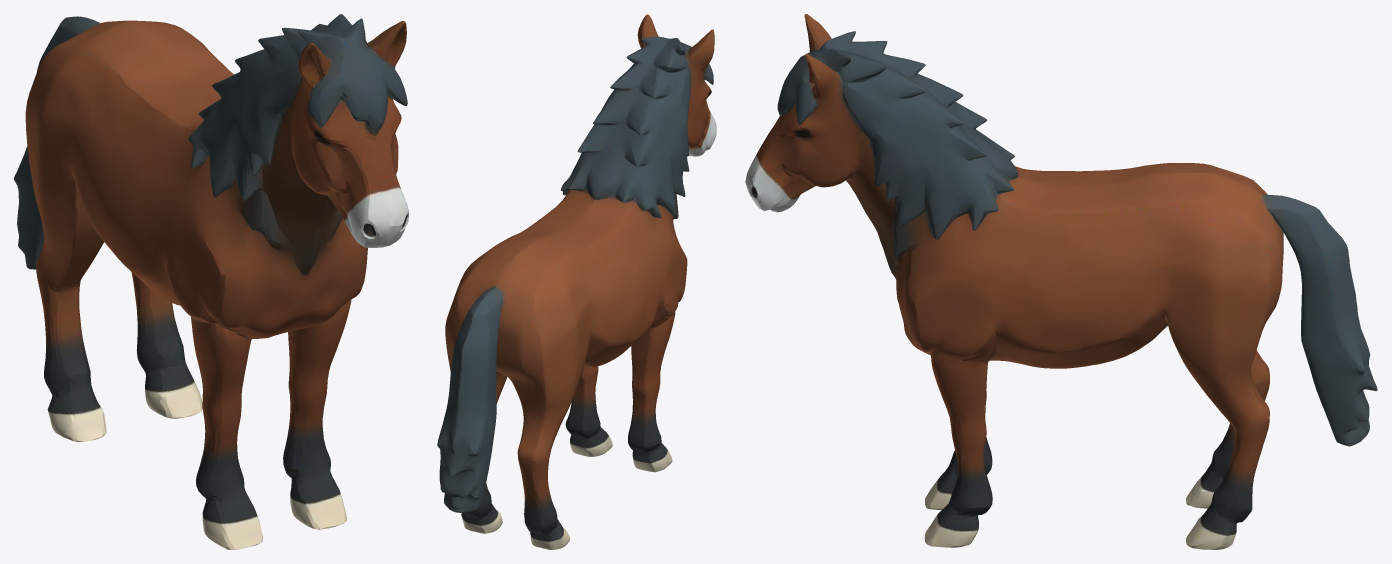
The model's file is horse-mongolian.glb.
The picture shows the model from 3 angles, left to right: view 1: azimuth 30°, elevation 25°; view 2: azimuth 150°, elevation 25°; view 3: azimuth 270°, elevation 25°; orthographic projection. The views are drawn at different scales.
Parts seen in each view (by area): view 1: model; view 2: model; view 3: model.
Boxes of the visible parts, left/top/right/bottom form: model: left=14, top=14, right=408, bottom=549; model: left=437, top=14, right=716, bottom=549; model: left=745, top=14, right=1377, bottom=549.
Size of the model in its own units: 0.5922 by 1.75 by 2.06.
Materials: 1 (1 with a texture image).
